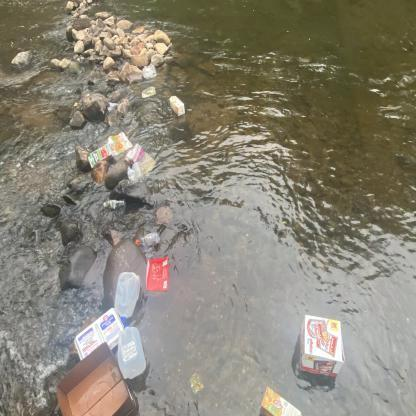Plastic: (72, 306, 129, 366), (116, 321, 148, 381), (113, 269, 144, 324), (133, 232, 163, 248)
